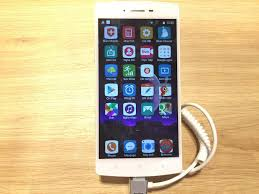bphone: (93, 2, 186, 176)
